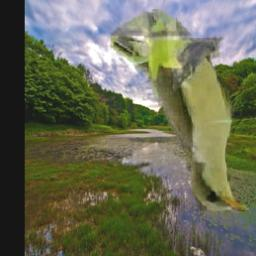Cuckoo: (111, 9, 249, 217)
